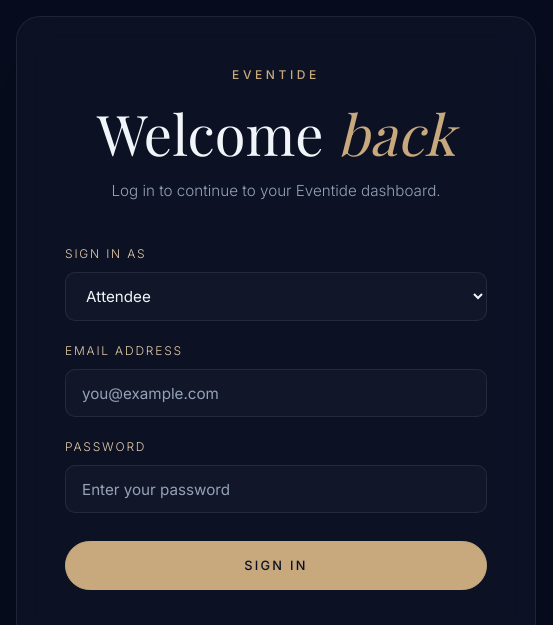
Test: EMS-FR-03 Login form validation › an empty form shows what is missing and sends nothing
The image size is (553, 625).
Click the button "Sign in".
click(276, 566)  # box [65,541,487,590]
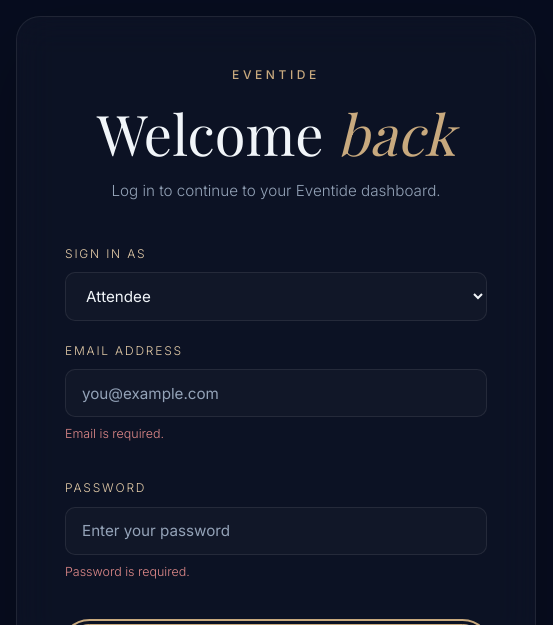
Check: the text "Email is required." is shown, box [65,426,164,441]
Check: the text "Password is required." is shown, box [65,564,190,579]
